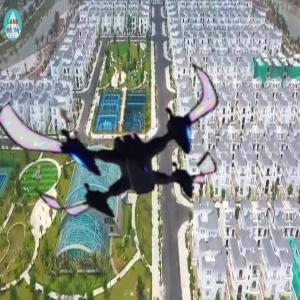drone: (23, 37, 239, 253)
